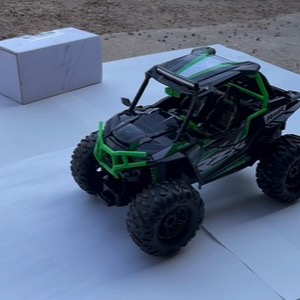polaris: (70, 47, 298, 259)
